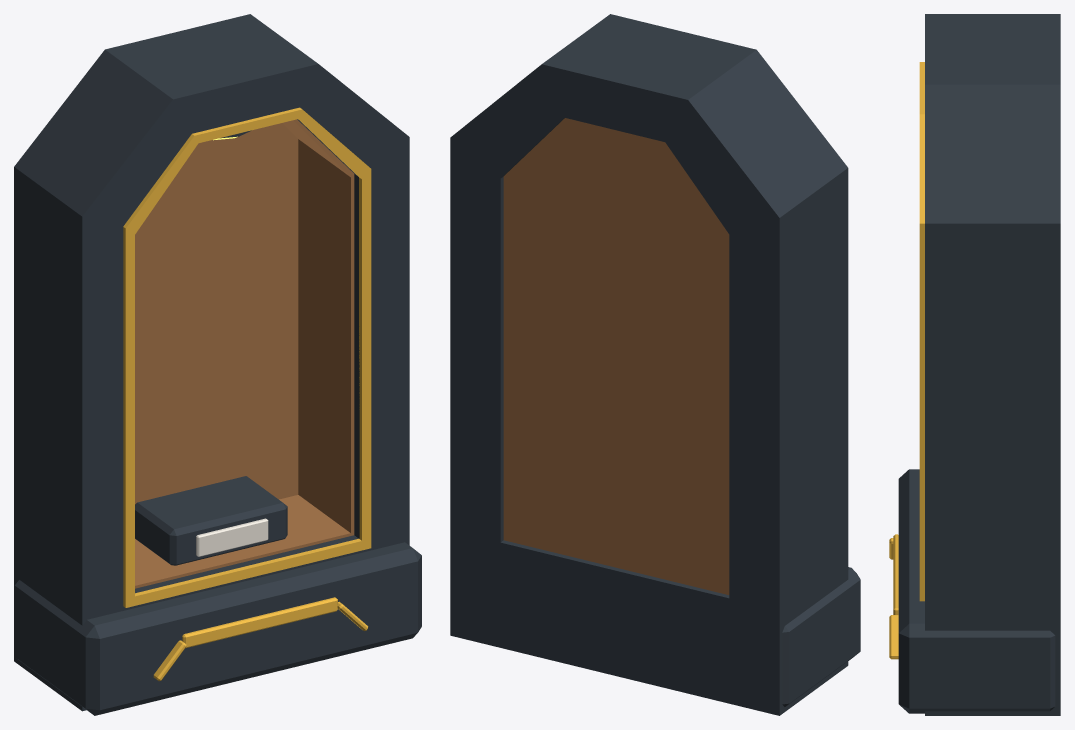
File: Gallery_WallNiche.fbx
3 views of the same model, side by side, from view 1: azimuth 30°, elevation 25°; view 2: azimuth 150°, elevation 25°; view 3: azimuth 270°, elevation 25° (orthographic).
Visible parts, largest first — view 1: FrameDark, Wood, Amber_Metal, Cream_SmoothPlastic; view 2: FrameDark, Wood; view 3: FrameDark, Amber_Metal.
Boxes of the visible parts, box(x1,y1,x2,y2) form: FrameDark: box(14, 14, 421, 715); Wood: box(135, 119, 354, 588); Amber_Metal: box(123, 107, 371, 681); Cream_SmoothPlastic: box(196, 518, 268, 556); FrameDark: box(450, 14, 860, 715); Wood: box(503, 118, 729, 594); FrameDark: box(898, 14, 1060, 715); Amber_Metal: box(889, 62, 924, 659).
Bounding box in the file's own units: 3.7 × 6.2 × 1.64.
